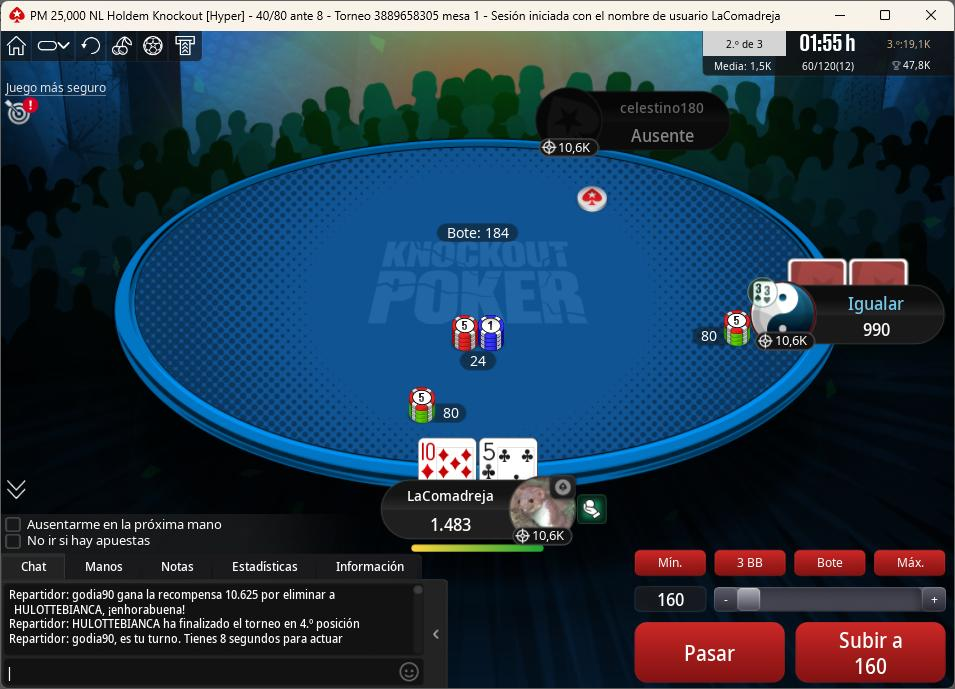ButtonCheck: (632, 618, 791, 689)
ButtonMaxRaise: (871, 548, 945, 579)
ButtonMinRaise: (630, 545, 710, 576)
ButtonPotRaise: (792, 546, 868, 582)
ButtonRaise: (793, 618, 951, 685)
Dealer: (575, 185, 609, 213)
HiddenCards: (786, 257, 911, 286)
Player: (749, 281, 945, 350), (542, 93, 731, 158)
PlayerBet: (688, 306, 755, 350)
PlayerChips: (857, 321, 899, 342)
Pot: (436, 222, 521, 244)
PrincipalBet: (406, 386, 471, 426)
PrincipalCards: (415, 434, 542, 485), (414, 437, 538, 484)
PrincipalCards1: (415, 434, 477, 486)
PrincipalCards2: (478, 436, 541, 484)
PrincipalPlayer: (378, 471, 576, 543)
PrincipalPlayerChips: (424, 516, 477, 536)
SmallBigBlind: (248, 2, 337, 30)
TablePot: (448, 307, 523, 374)
